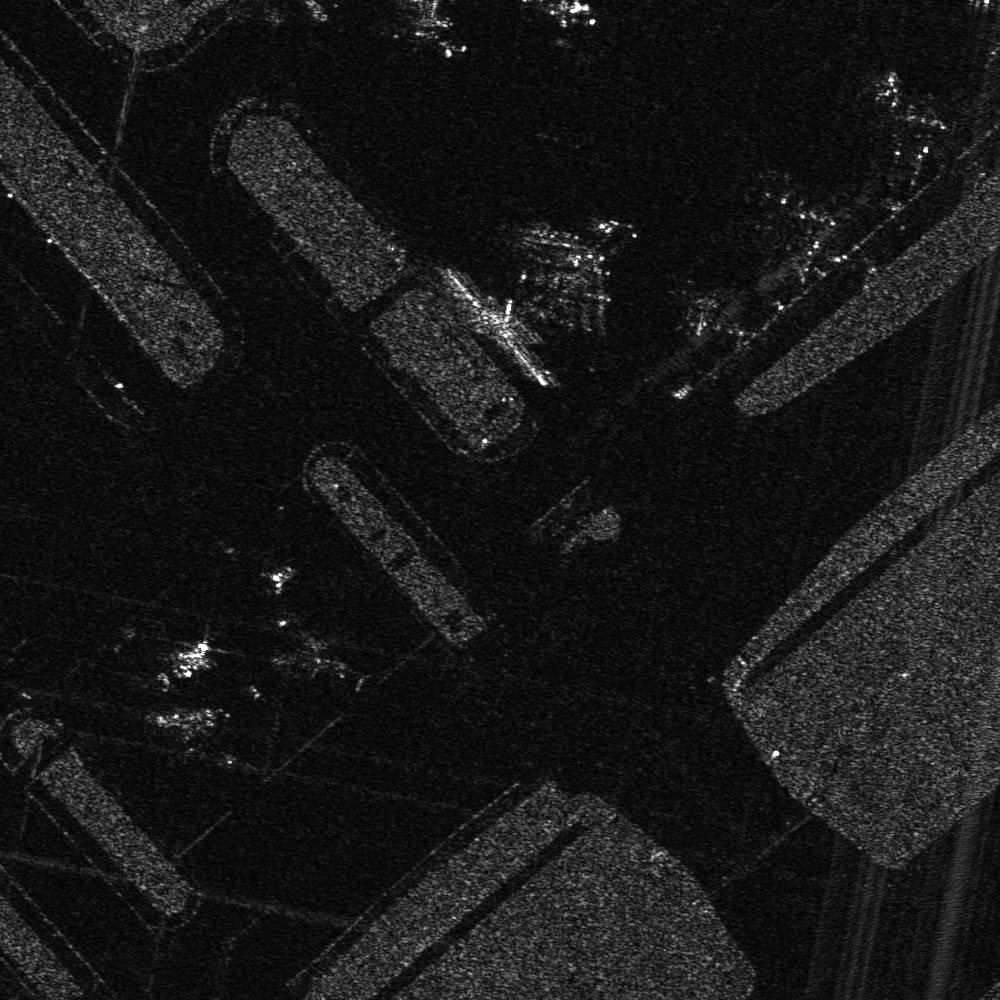Boeing737: (275, 605, 373, 691), (140, 689, 237, 770), (376, 1, 447, 39)
Boeing787: (868, 60, 961, 164)
other: (513, 214, 639, 336), (739, 157, 844, 270)
